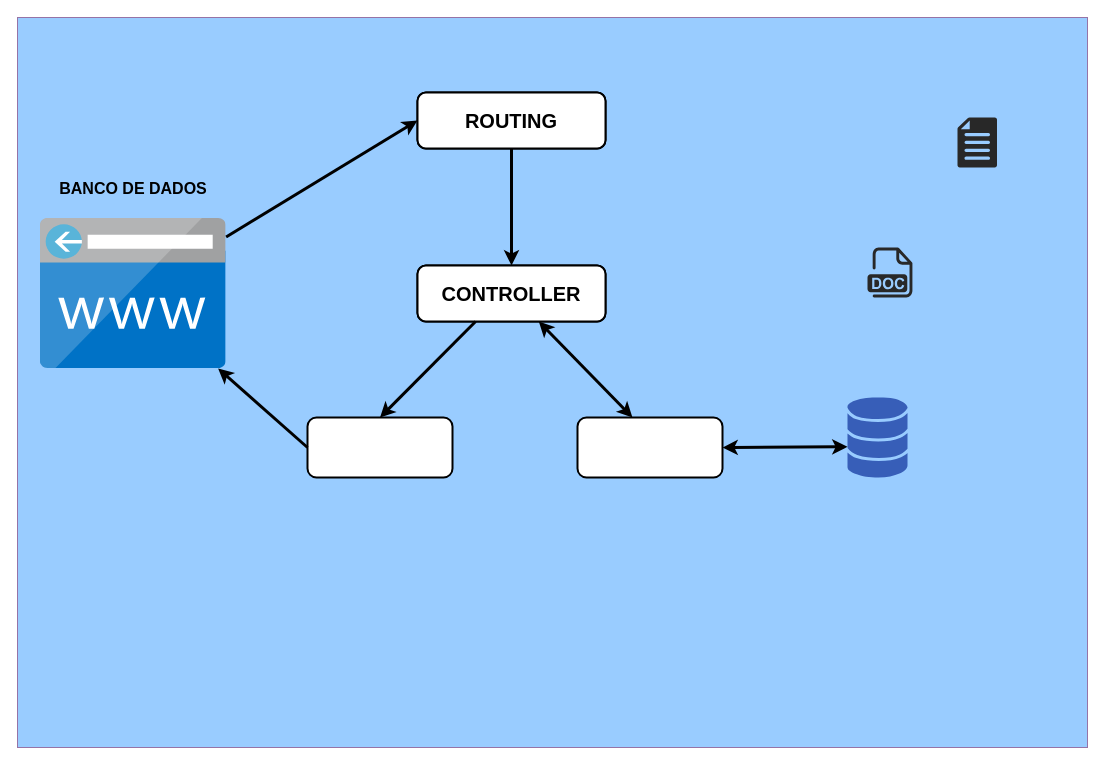
Some shapes in this 1105 by 765 pixel diagram are drawn without their labels. The centre of each missing label's shape, as x and y in pixels:
"MODEL" goes at [649,447].
"VIEW" goes at [379,447].
